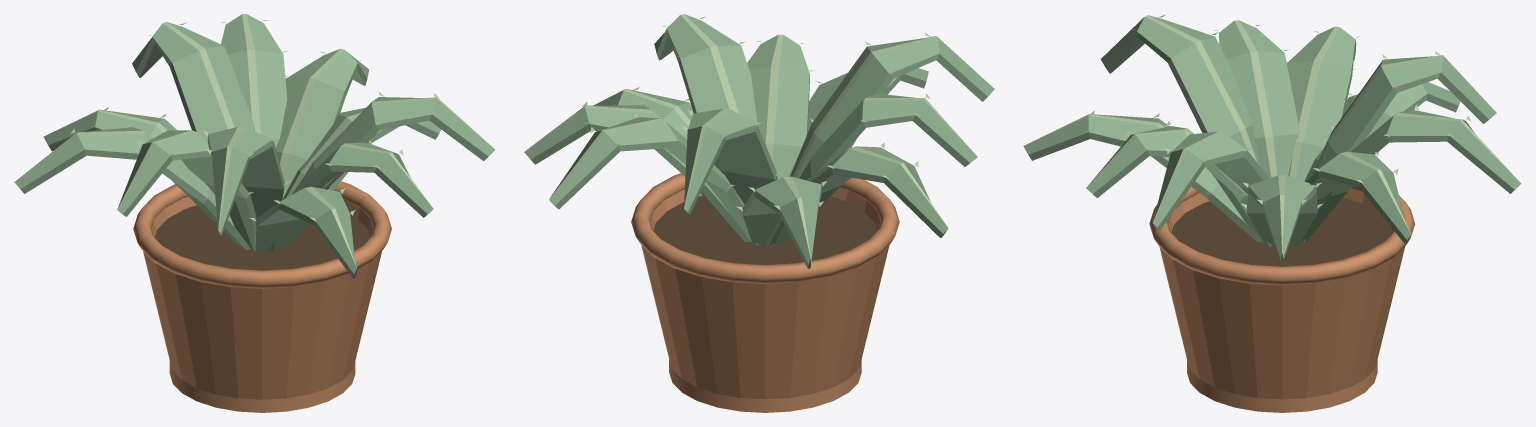
File: houseplant_aloe.glb
The picture shows the model from 3 angles, left to right: view 1: azimuth 30°, elevation 25°; view 2: azimuth 150°, elevation 25°; view 3: azimuth 270°, elevation 25°; orthographic projection. The views are drawn at different scales.
Parts seen in each view (by area): view 1: Aloe_Open_Pot, Aloe_Fleshy_Leaf_3, Aloe_Pot_Rim, Aloe_Fleshy_Leaf_1, Aloe_Visible_Soil, Aloe_Fleshy_Leaf_7, Aloe_Fleshy_Leaf_2, Aloe_Fleshy_Leaf_8, Aloe_Fleshy_Leaf_5, Aloe_Fleshy_Leaf_10, Aloe_Fleshy_Leaf_6, Aloe_Fleshy_Leaf_9 (+3 smaller); view 2: Aloe_Open_Pot, Aloe_Pot_Rim, Aloe_Visible_Soil, Aloe_Fleshy_Leaf_7, Aloe_Fleshy_Leaf_10, Aloe_Fleshy_Leaf_9, Aloe_Fleshy_Leaf_3, Aloe_Fleshy_Leaf_2, Aloe_Fleshy_Leaf_6, Aloe_Fleshy_Leaf_5, Aloe_Fleshy_Leaf_4, Aloe_Fleshy_Leaf_1 (+3 smaller); view 3: Aloe_Open_Pot, Aloe_Fleshy_Leaf_7, Aloe_Visible_Soil, Aloe_Fleshy_Leaf_6, Aloe_Fleshy_Leaf_5, Aloe_Fleshy_Leaf_3, Aloe_Pot_Rim, Aloe_Fleshy_Leaf_10, Aloe_Fleshy_Leaf_2, Aloe_Fleshy_Leaf_1, Aloe_Fleshy_Leaf_8, Aloe_Fleshy_Leaf_0 (+3 smaller).
Boxes of the visible parts, x1,y1,x2,y2 form: Aloe_Open_Pot: [143, 196, 381, 399]; Aloe_Fleshy_Leaf_3: [132, 22, 254, 142]; Aloe_Pot_Rim: [133, 181, 391, 288]; Aloe_Fleshy_Leaf_1: [275, 48, 369, 198]; Aloe_Visible_Soil: [154, 205, 370, 270]; Aloe_Fleshy_Leaf_7: [207, 126, 284, 250]; Aloe_Fleshy_Leaf_2: [221, 14, 287, 147]; Aloe_Fleshy_Leaf_8: [253, 186, 357, 278]; Aloe_Fleshy_Leaf_5: [14, 127, 250, 249]; Aloe_Fleshy_Leaf_10: [281, 97, 495, 248]; Aloe_Fleshy_Leaf_6: [117, 130, 259, 251]; Aloe_Fleshy_Leaf_9: [267, 142, 433, 251]; Aloe_Open_Pot: [641, 187, 889, 399]; Aloe_Pot_Rim: [631, 173, 899, 284]; Aloe_Visible_Soil: [653, 195, 877, 264]; Aloe_Fleshy_Leaf_7: [790, 36, 994, 237]; Aloe_Fleshy_Leaf_10: [654, 14, 757, 123]; Aloe_Fleshy_Leaf_9: [747, 34, 809, 179]; Aloe_Fleshy_Leaf_3: [684, 108, 777, 245]; Aloe_Fleshy_Leaf_2: [549, 117, 758, 245]; Aloe_Fleshy_Leaf_6: [780, 94, 977, 243]; Aloe_Fleshy_Leaf_5: [765, 146, 948, 246]; Aloe_Fleshy_Leaf_4: [742, 176, 822, 268]; Aloe_Fleshy_Leaf_1: [524, 105, 750, 242]; Aloe_Open_Pot: [1159, 188, 1404, 399]; Aloe_Fleshy_Leaf_7: [1100, 15, 1259, 165]; Aloe_Visible_Soil: [1171, 197, 1392, 266]; Aloe_Fleshy_Leaf_6: [1219, 20, 1299, 177]; Aloe_Fleshy_Leaf_5: [1287, 26, 1356, 181]; Aloe_Fleshy_Leaf_3: [1302, 55, 1496, 242]; Aloe_Pot_Rim: [1149, 186, 1414, 285]; Aloe_Fleshy_Leaf_10: [1152, 131, 1269, 240]; Aloe_Fleshy_Leaf_2: [1292, 110, 1521, 246]; Aloe_Fleshy_Leaf_1: [1301, 151, 1411, 243]; Aloe_Fleshy_Leaf_8: [1023, 114, 1263, 242]; Aloe_Fleshy_Leaf_0: [1247, 175, 1317, 261].
Bounding box in the file's own units: 0.6881 × 0.4995 × 0.7346.
